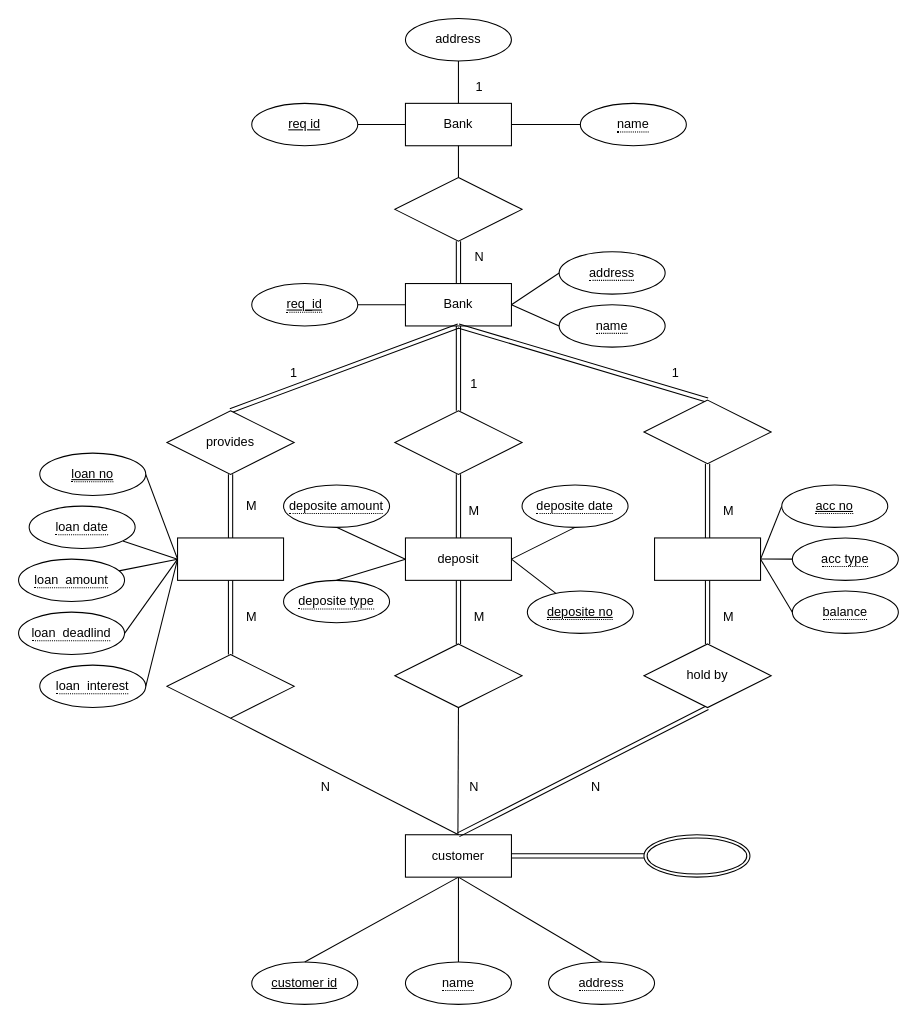
The diagram is 917 pixels wide and 1023 high, and some of its shapes have lost their labels. The shapes that lost their labels are listed below. From the top down, each one's box as (x1, y1, x2, y2) in pixels, then its label:
(394, 176, 522, 241): has
(394, 410, 522, 474): allows
(643, 399, 771, 464): maintain
(176, 537, 284, 580): loan
(653, 537, 761, 580): account
(166, 653, 294, 718): taken by
(394, 643, 522, 708): given by
(643, 834, 750, 877): phone
